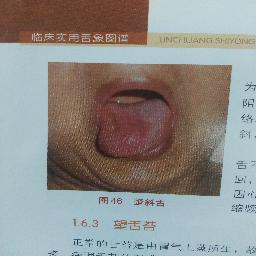tongue: (100, 101, 171, 157)
